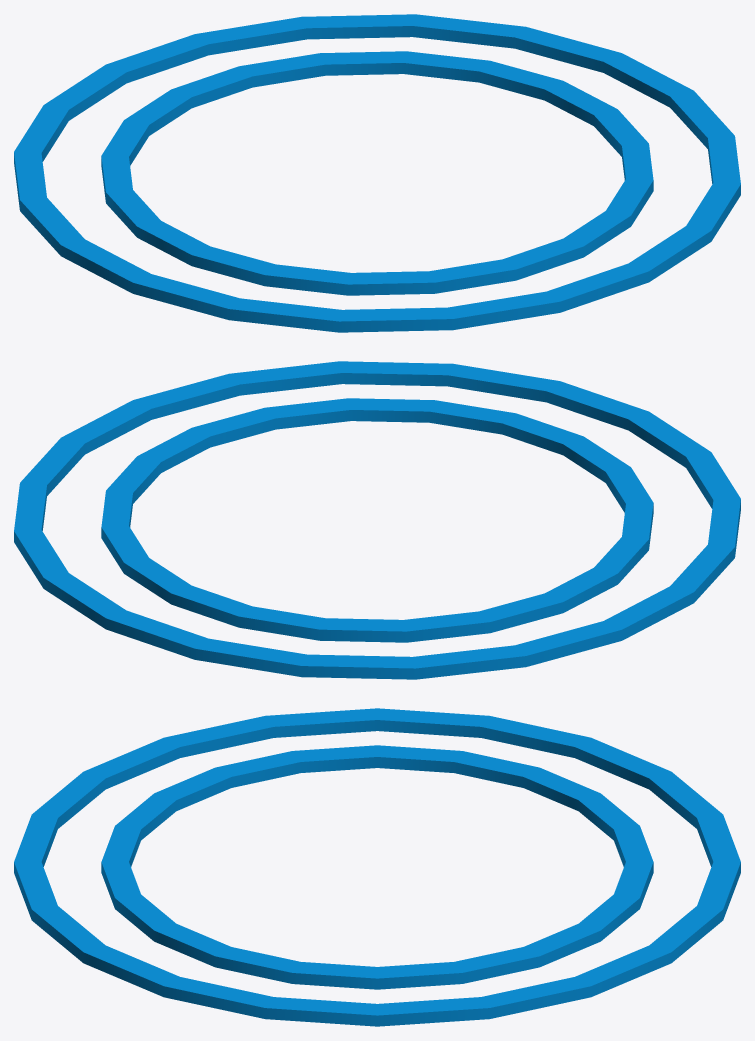
3 views of the same model, one above another, from view 1: azimuth 30°, elevation 25°; view 2: azimuth 150°, elevation 25°; view 3: azimuth 270°, elevation 25° (orthographic).
Visible parts, largest first — view 1: Circle; view 2: Circle; view 3: Circle.
Part boxes in pixels (box(x1,y1,x2,y2)): Circle: box(14, 14, 740, 332); Circle: box(14, 361, 740, 679); Circle: box(14, 708, 740, 1026).
Size of the model in its own units: 1.28 by 0.0216 by 1.28.
